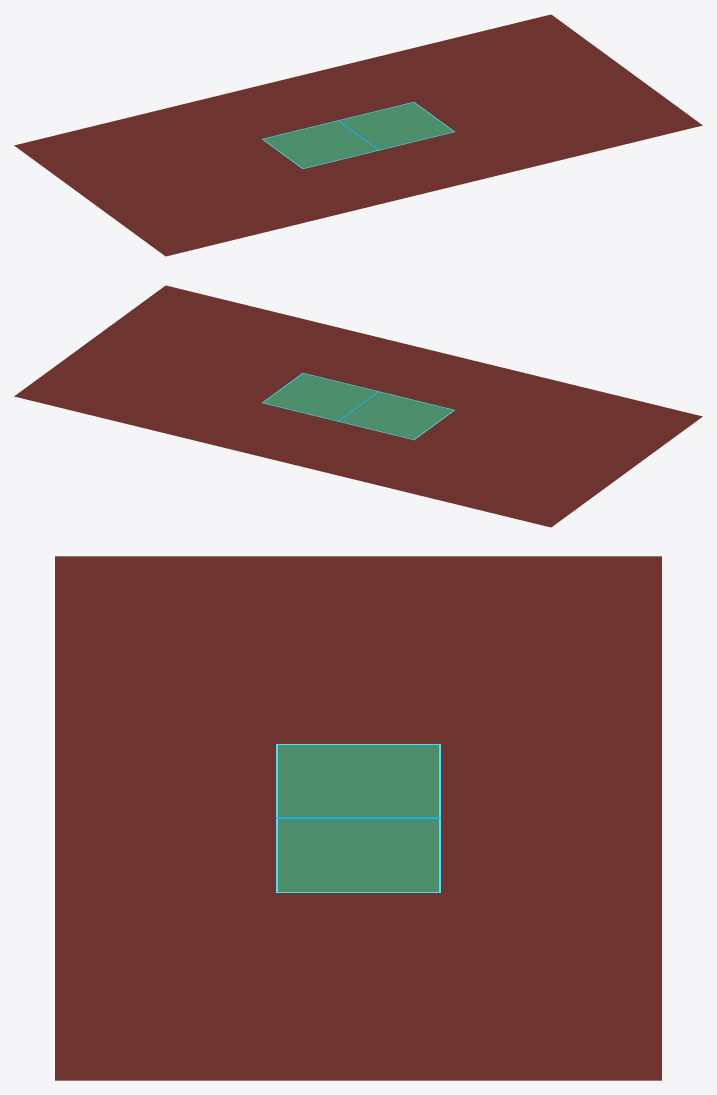
File: Tenniscourt.fbx
3 renders of one model, top to bottom at view 1: azimuth 30°, elevation 25°; view 2: azimuth 150°, elevation 25°; view 3: azimuth 270°, elevation 25°, orthographic. The views are drawn at different scales.
Parts seen in each view (by area): view 1: Ground, Courtarea, Line; view 2: Ground, Courtarea, Line; view 3: Ground, Courtarea, Line.
Part boxes in pixels (x1,y1,x2,y2): Ground: (14, 14, 702, 256); Courtarea: (263, 102, 453, 168); Line: (262, 102, 454, 168); Ground: (14, 285, 702, 527); Courtarea: (263, 373, 453, 439); Line: (262, 373, 454, 439); Ground: (55, 556, 661, 1080); Courtarea: (278, 745, 438, 891); Line: (276, 744, 440, 892).
Bounding box in the file's own units: 27800 × 29.56 × 13600.
